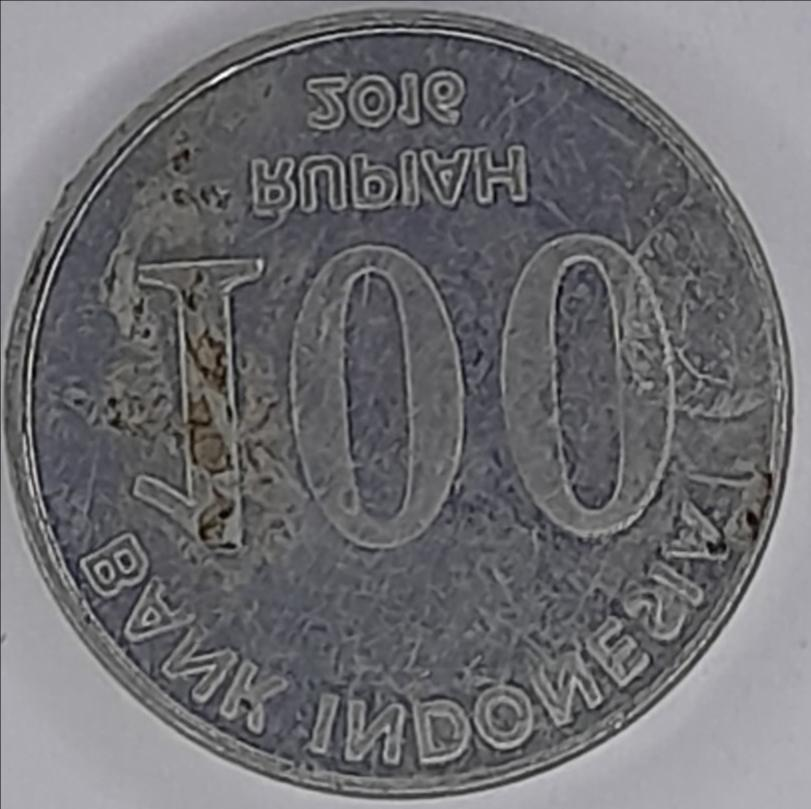coin_100_e2016: (0, 1, 800, 801)
